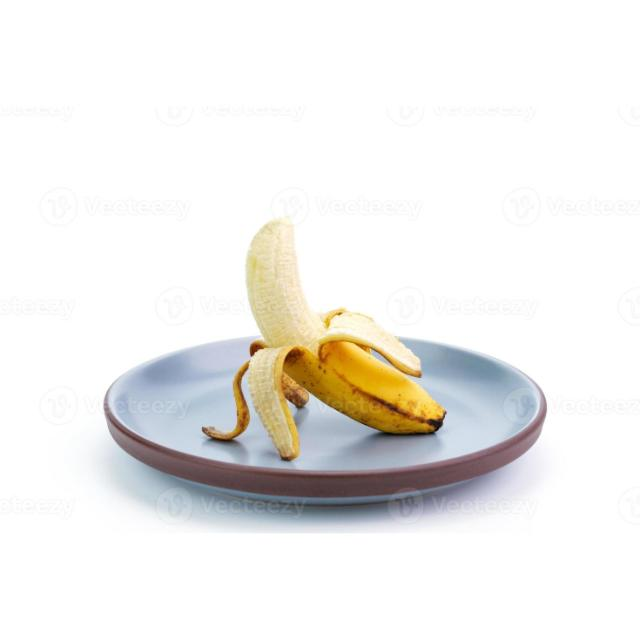organic: (189, 199, 480, 458)
